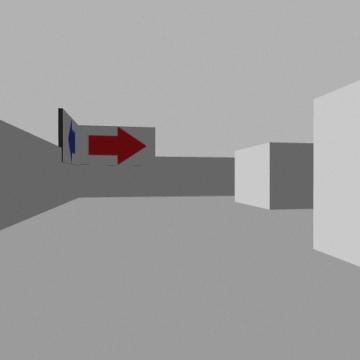blue_left: (69, 121, 75, 161)
red_right: (89, 127, 146, 164)
